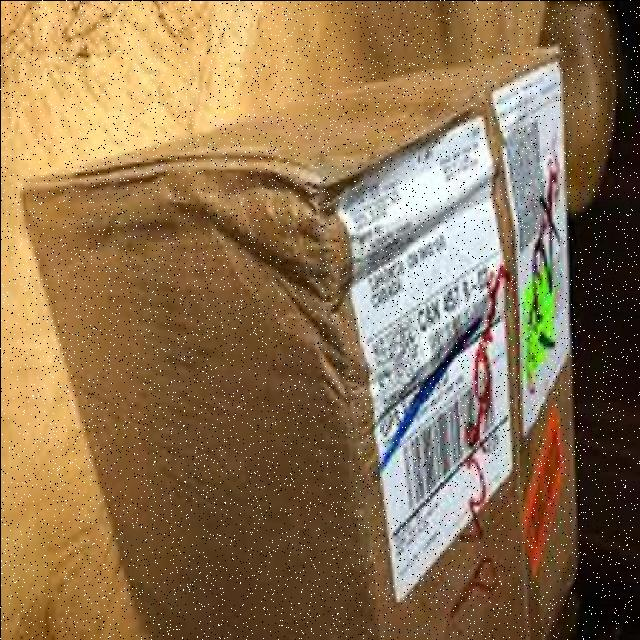normal: (21, 40, 577, 640)
